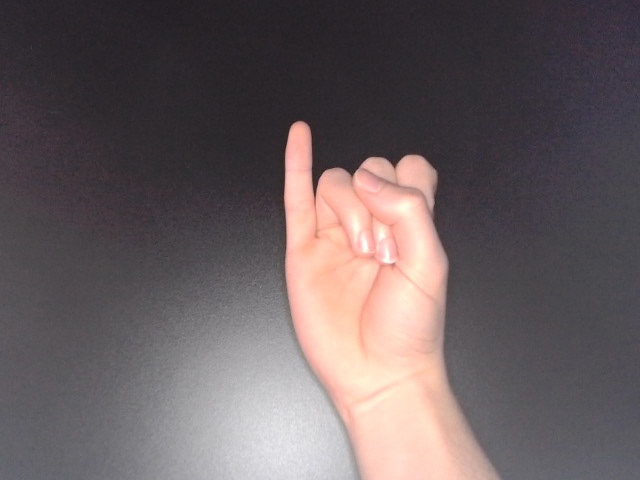i: (278, 118, 454, 416)
